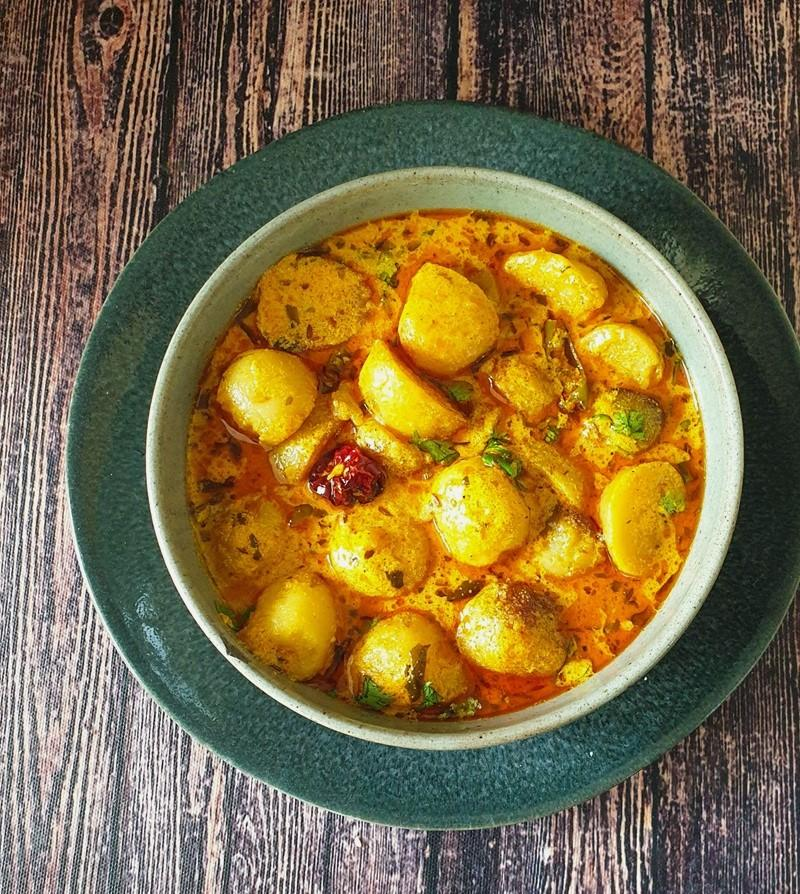aloo sabji: (161, 246, 627, 694)
